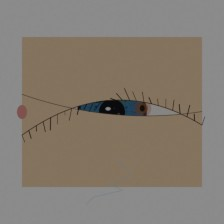foreign_body_visible: (117, 72, 143, 93)
